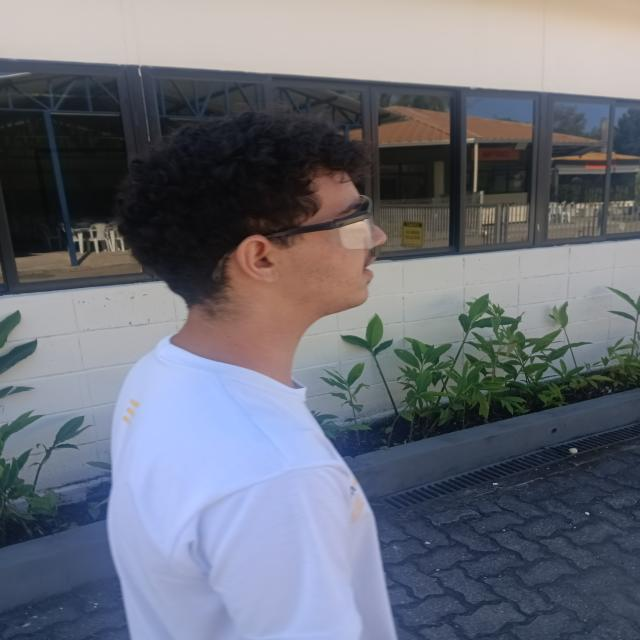oculos-epi: (256, 195, 376, 250), (211, 245, 238, 282)
